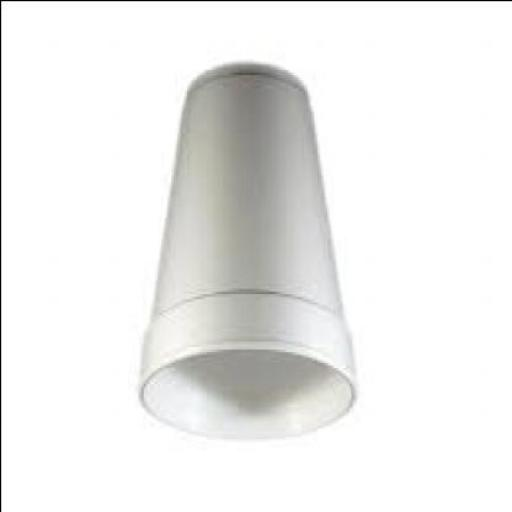paper: (137, 64, 353, 438)
